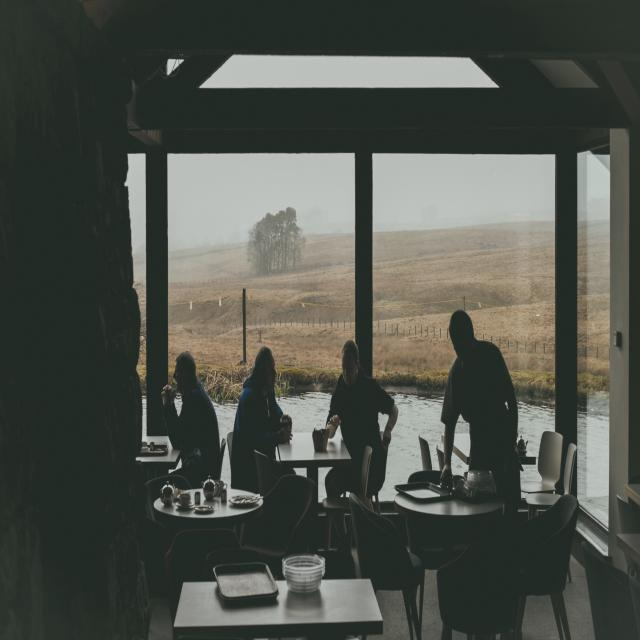adult: (441, 309, 519, 482), (324, 339, 400, 498), (145, 352, 220, 491), (232, 347, 296, 486)
